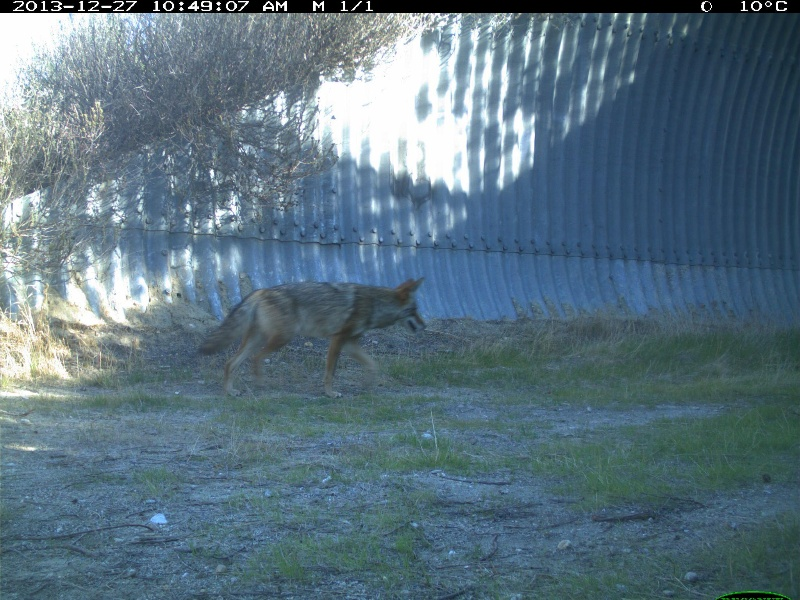coyote: (196, 273, 427, 402)
